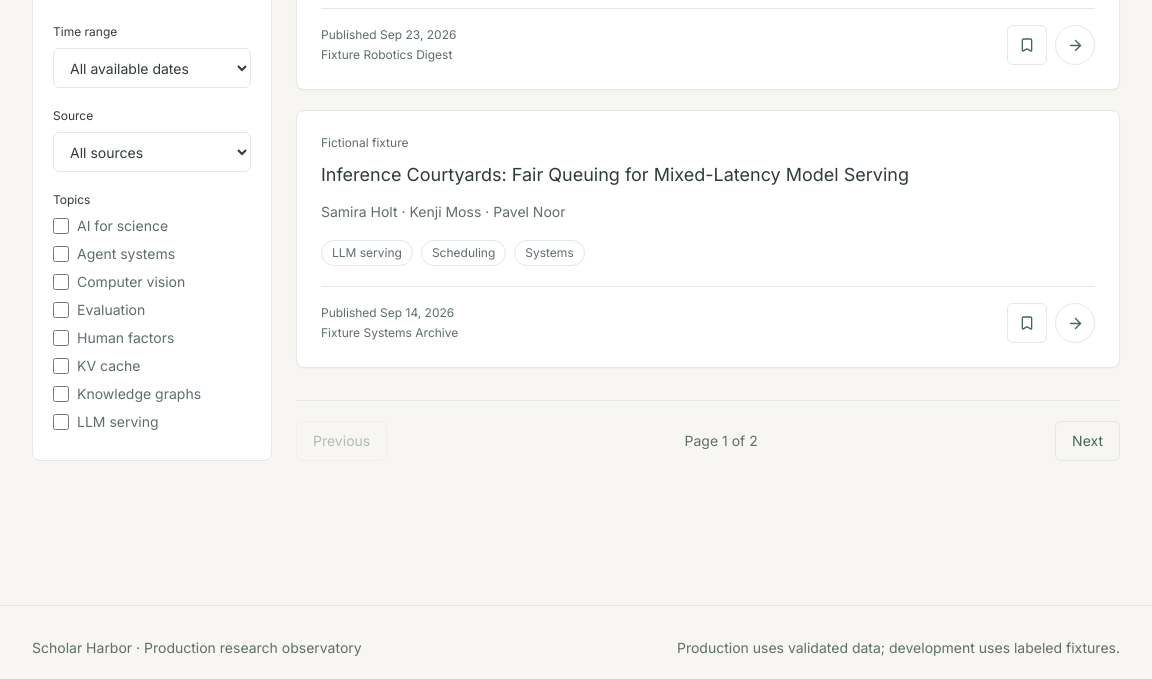
it: paper discovery and detail navigation › renders a validated, paginated paper list
(page scrolled)
Expected: the navigation bar named "Paper result pages" is shown, [296,400,1120,461]
Click the button "Next" at (1088, 441), box [1055,421,1120,461]
(page scrolled)
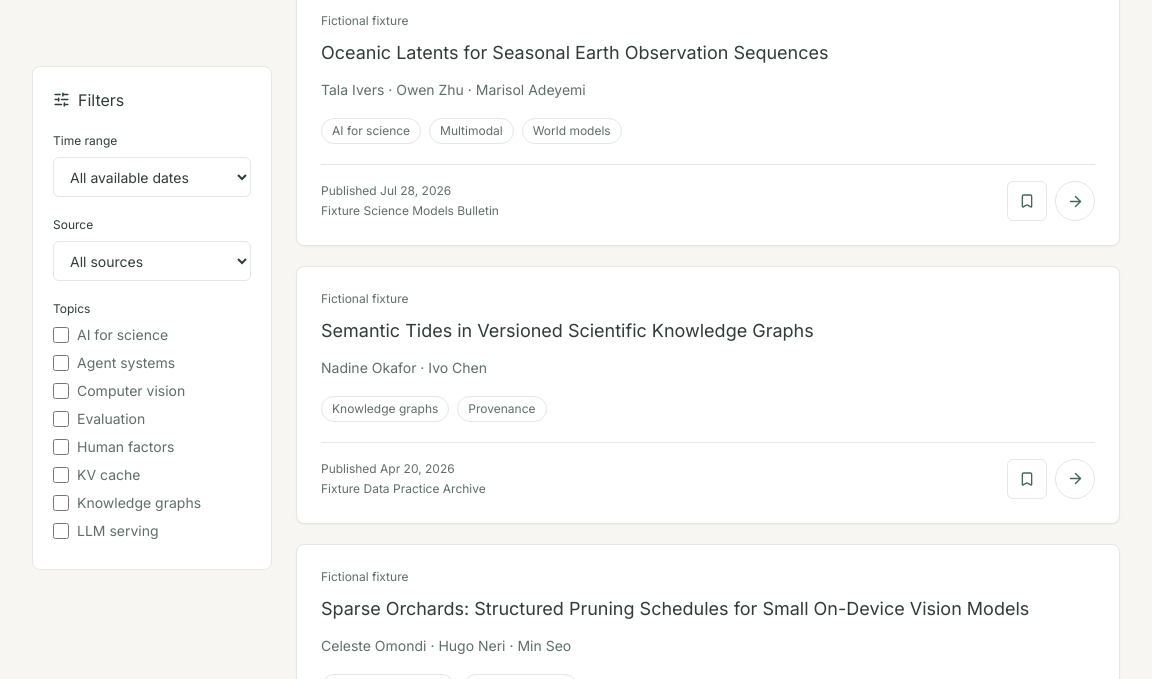
Expected: the link "Semantic Tides in Versioned Scientific Knowledge Graphs" is shown, [321,320,814,341]
